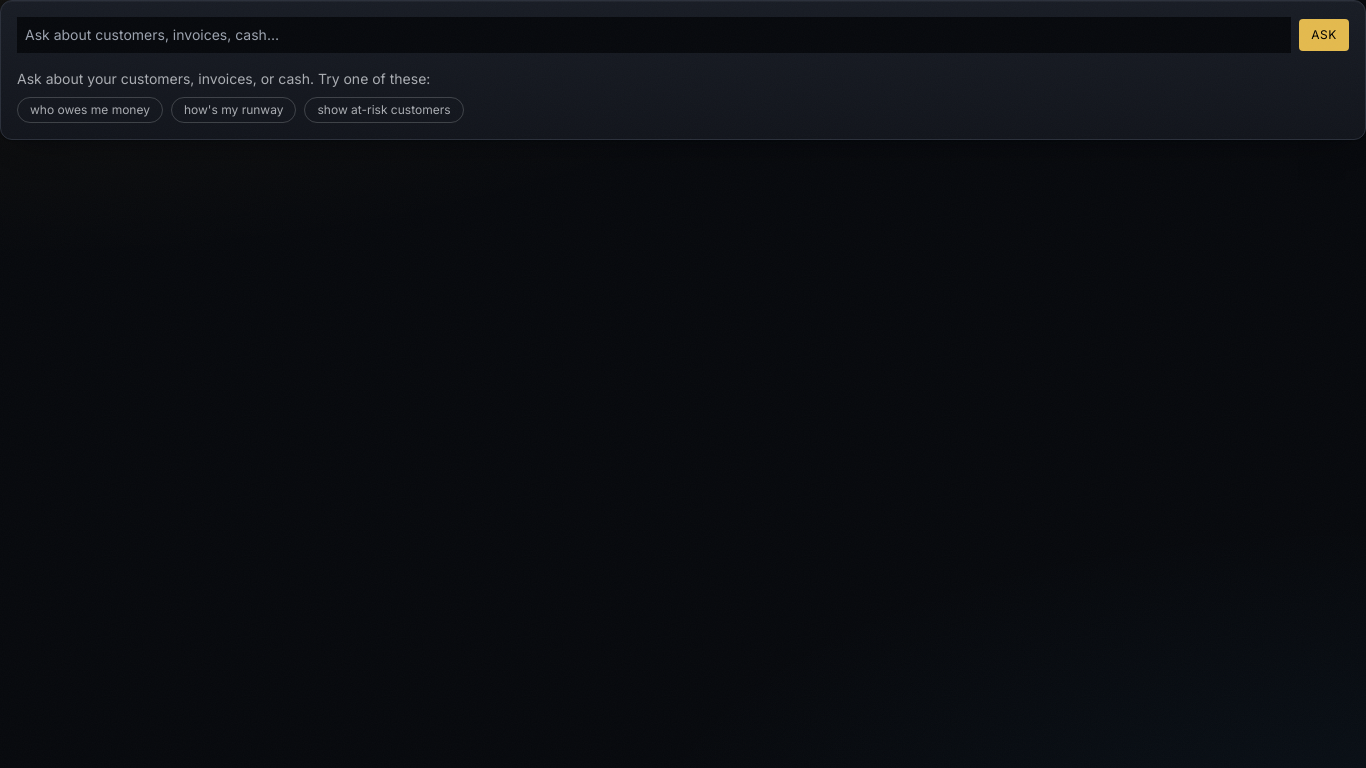
Test: CommandPalette — table result › renders rows and wraps the first cell of a linked row in an anchor to its href
The image size is (1366, 768).
Type "who owes me money" into the field named "ask a question" at (654, 35), box [17,17,1291,53]
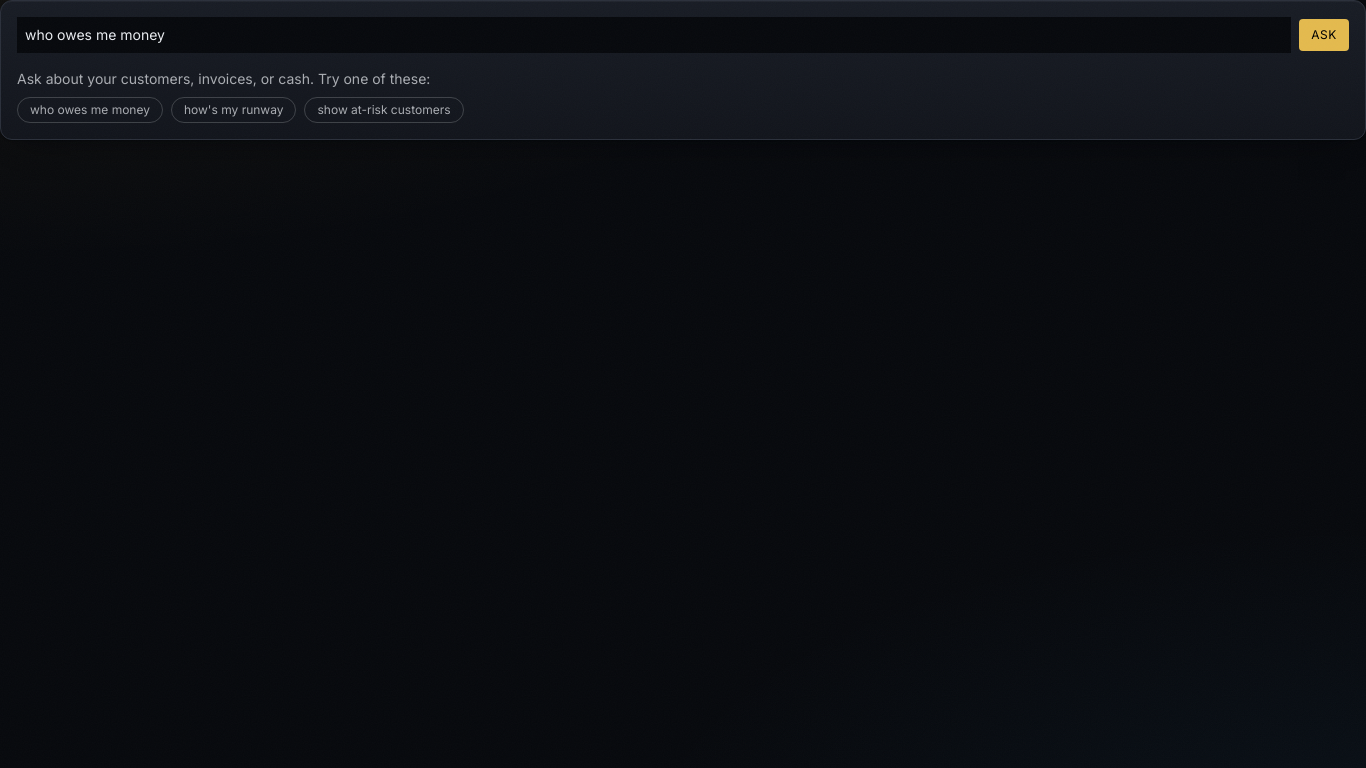
Click the button "Ask" at (1324, 35), box [1299,19,1349,51]
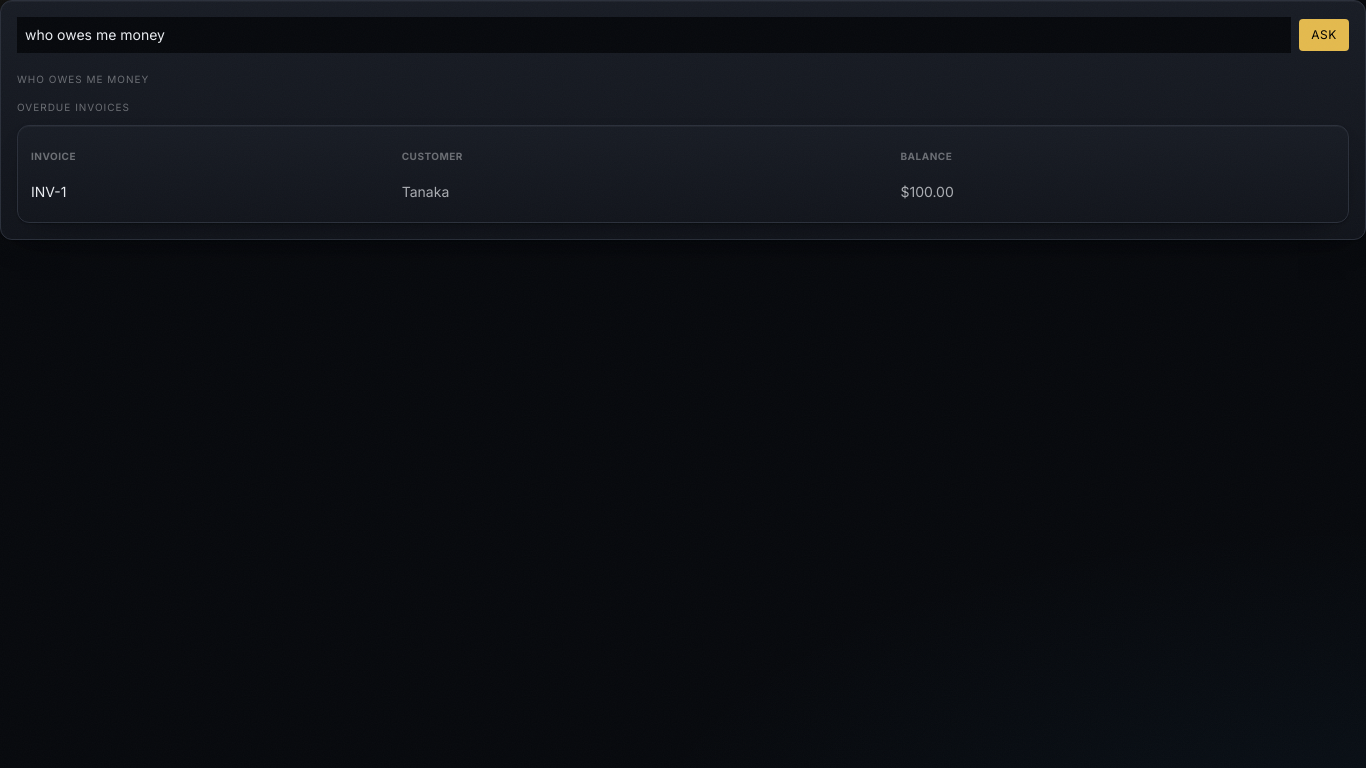
Check: the table is shown, box [30,138,1336,210]
Check: the column heading "Invoice" is shown, box [30,138,401,174]
Check: the text "Tanaka" is shown, box [401,174,900,210]
